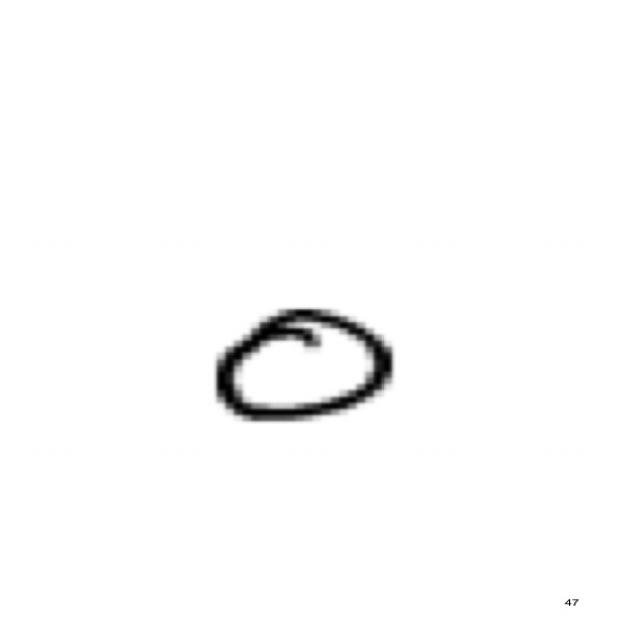5 -five-: (202, 297, 404, 430)
